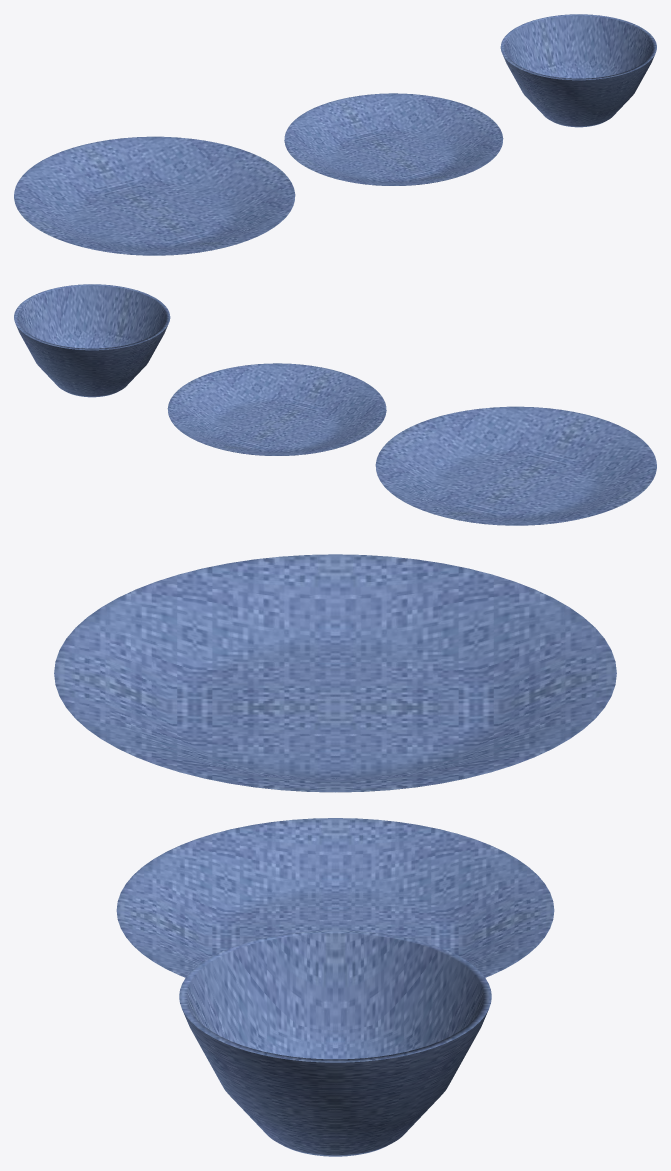
The picture shows the model from 3 angles, top to bottom: view 1: azimuth 30°, elevation 25°; view 2: azimuth 150°, elevation 25°; view 3: azimuth 270°, elevation 25°; orthographic projection. The views are drawn at different scales.
Bounding box in the file's own units: 0.68 × 0.07 × 0.27.
Materials: 6 (6 with a texture image).
